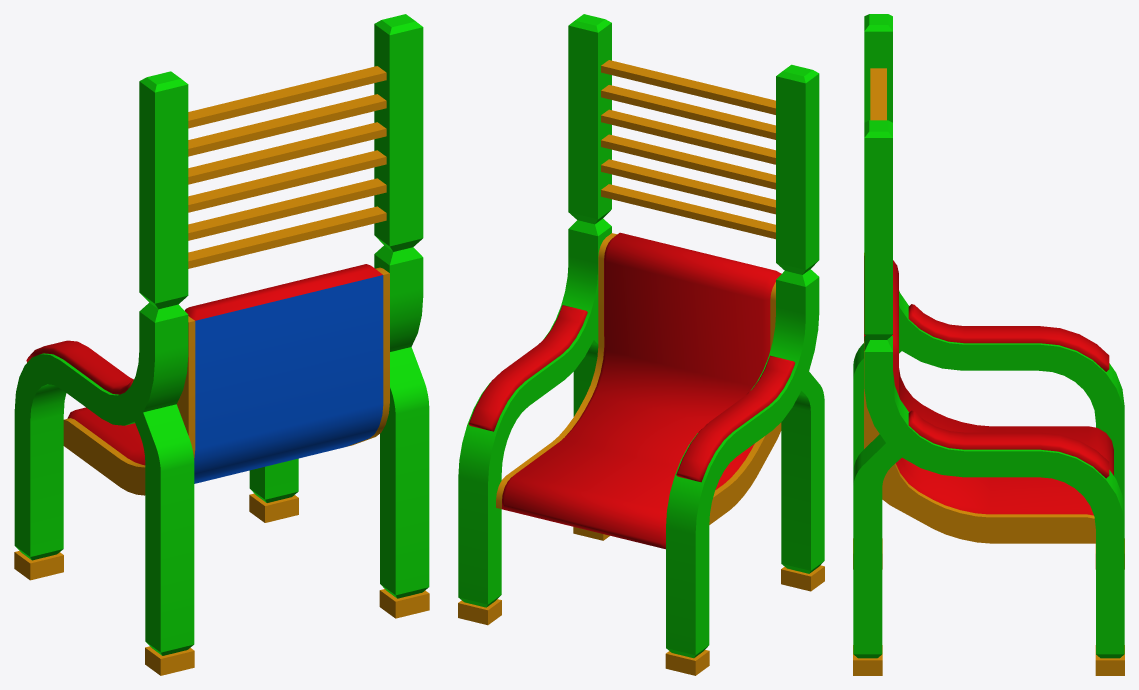
The model's file is Chair.fbx.
The picture shows the model from 3 angles, left to right: view 1: azimuth 30°, elevation 25°; view 2: azimuth 150°, elevation 25°; view 3: azimuth 270°, elevation 25°; orthographic projection. The views are drawn at different scales.
Parts seen in each view (by area): view 1: Chair_A_01; view 2: Chair_A_01; view 3: Chair_A_01.
Boxes of the visible parts, x1=… form: Chair_A_01: x1=14, y1=14, x2=429, y2=675; Chair_A_01: x1=458, y1=14, x2=824, y2=675; Chair_A_01: x1=853, y1=14, x2=1124, y2=675.
Bounding box in the file's own units: 100 × 208 × 94.37.
